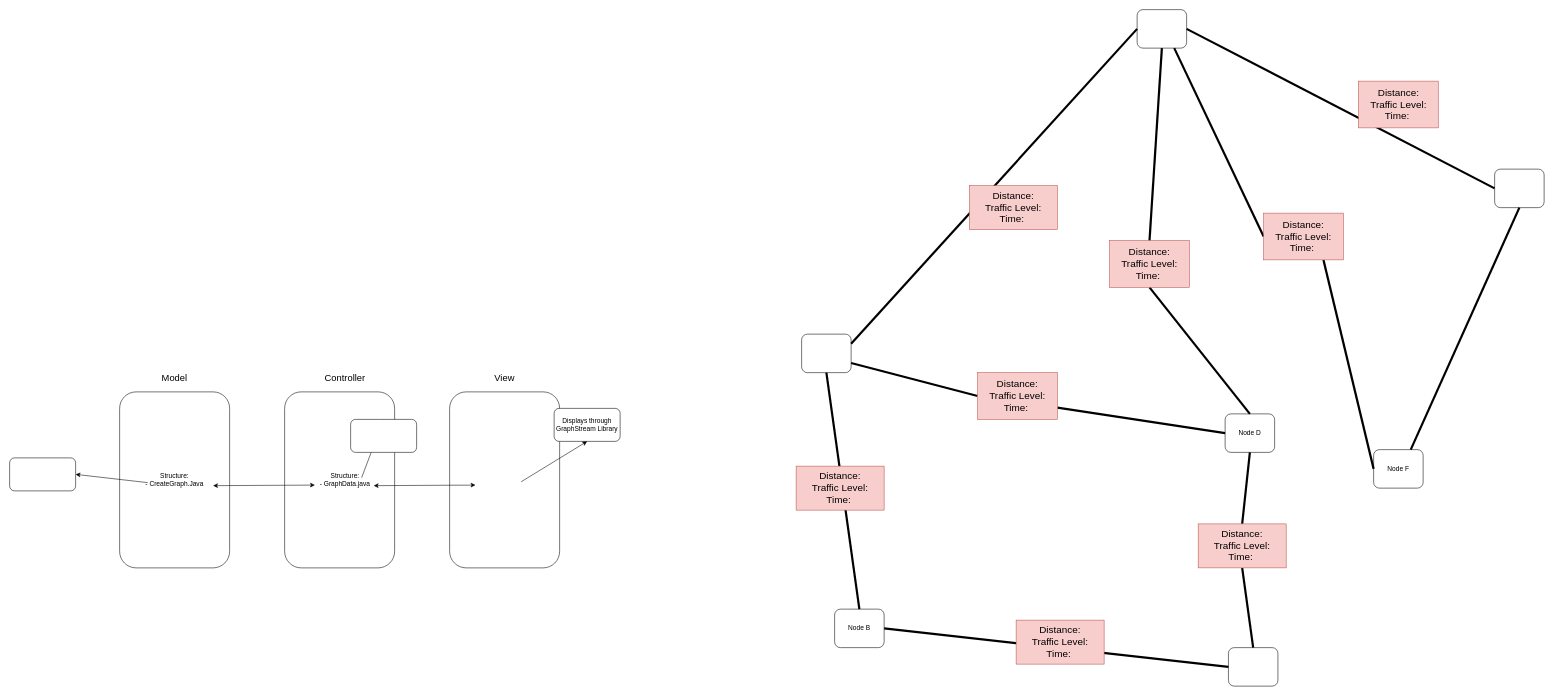
The diagram is 1554 pixels wide and 696 high, and some of its shapes have lost their labels. Here are the shapes that lost their labels. From the top down, the centre of each, then its label:
the point at 1162,28: Node E
the point at 1519,188: Node G
the point at 826,353: Node A
the point at 383,435: Gets Nodes and Edges and Gives to View
the point at 42,474: Create Nodes and Edges
the point at 504,479: Structure: - GraphDisplay.java
the point at 1253,666: Node C
